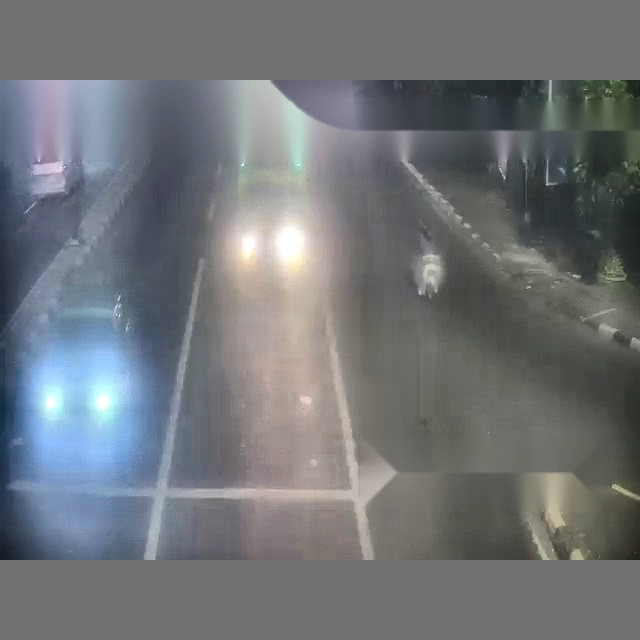Motor: (417, 254, 443, 298)
